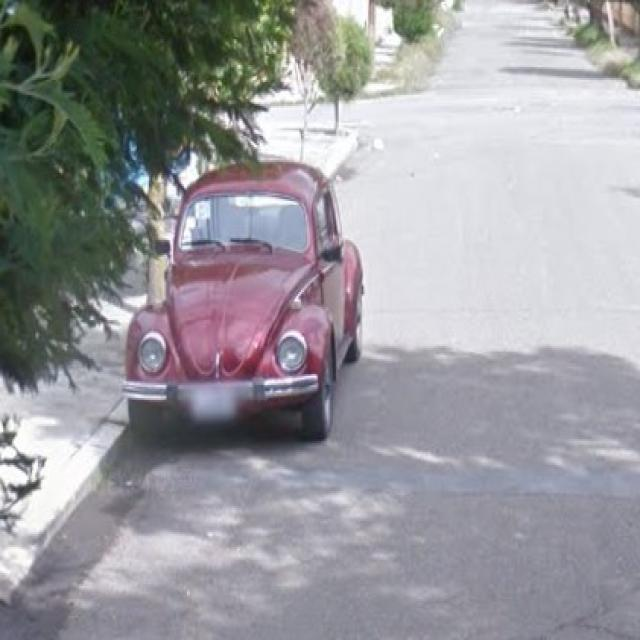car: (114, 164, 372, 448)
